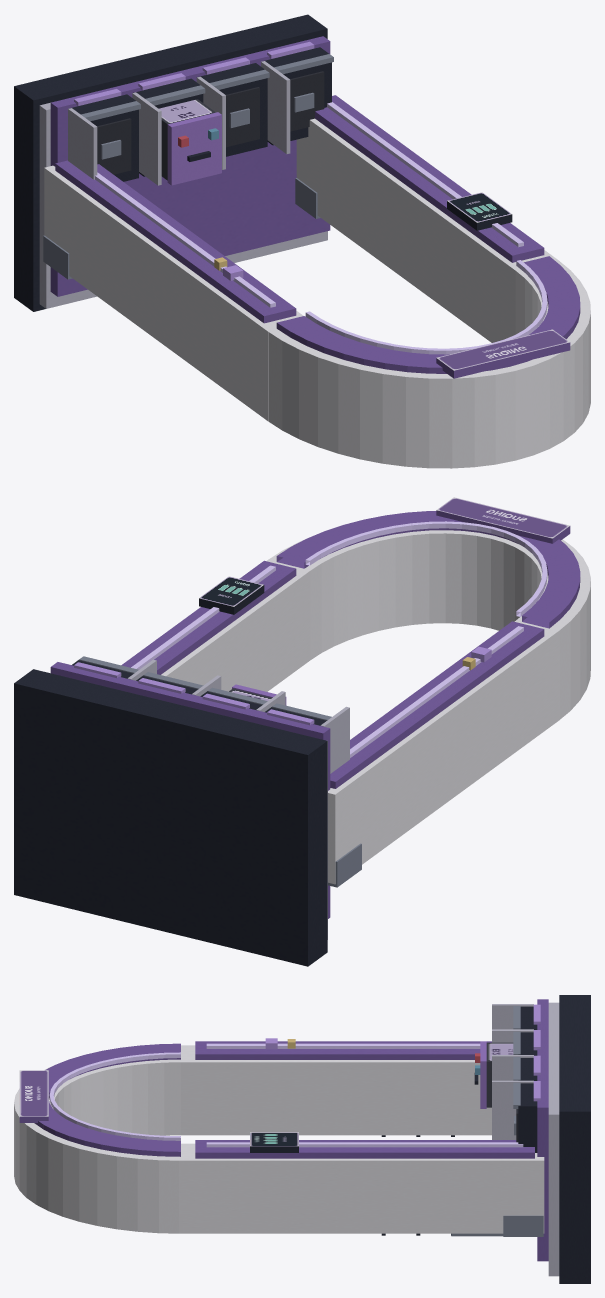
The model's file is portal_2.obj.
3 views of the same model, one above another, from view 1: azimuth 30°, elevation 25°; view 2: azimuth 150°, elevation 25°; view 3: azimuth 270°, elevation 25° (orthographic). The views are drawn at different scales.
Visible parts, largest first — view 1: SuQingPortal_mask_2; view 2: SuQingPortal_mask_2; view 3: SuQingPortal_mask_2.
Boxes of the visible parts, box(x1,y1,x2,y2) form: SuQingPortal_mask_2: box(14, 14, 590, 468); SuQingPortal_mask_2: box(14, 497, 590, 966); SuQingPortal_mask_2: box(14, 995, 590, 1283).
Bounding box in the file's own units: 0.96 × 0.668 × 2.01.
Materials: 1 (1 with a texture image).
